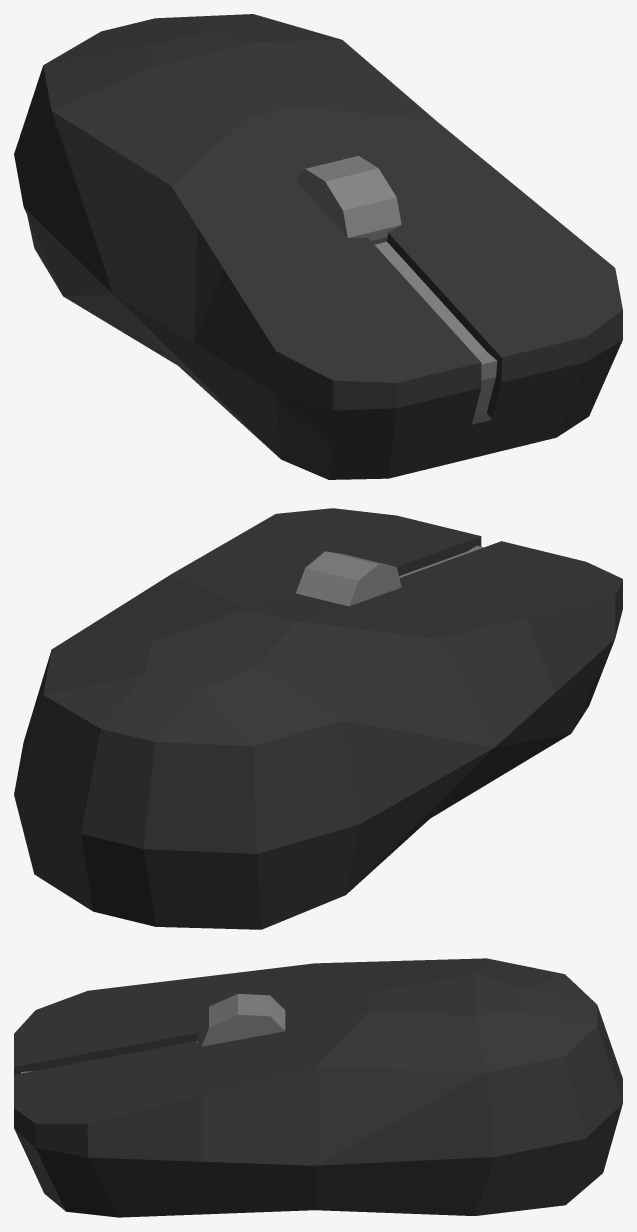
The model's file is Int_TechMouse01.fbx.
3 views of the same model, one above another, from view 1: azimuth 30°, elevation 25°; view 2: azimuth 150°, elevation 25°; view 3: azimuth 270°, elevation 25° (orthographic). The views are drawn at different scales.
Parts seen in each view (by area): view 1: Int_TechMouse01; view 2: Int_TechMouse01; view 3: Int_TechMouse01.
Boxes of the visible parts, x1=… form: Int_TechMouse01: x1=14, y1=14, x2=622, y2=479; Int_TechMouse01: x1=14, y1=508, x2=622, y2=929; Int_TechMouse01: x1=14, y1=958, x2=622, y2=1217.
Size of what is drawn, in the model's own units: 9.17 by 15.79 by 4.75.
